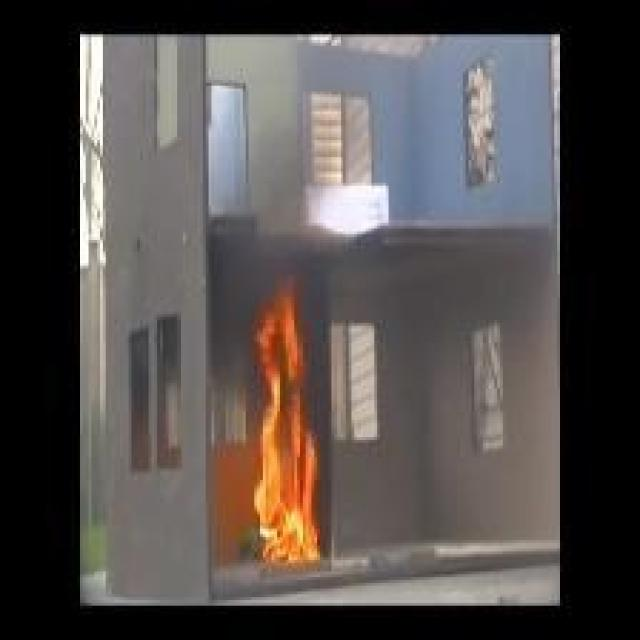fire: (214, 270, 340, 579)
